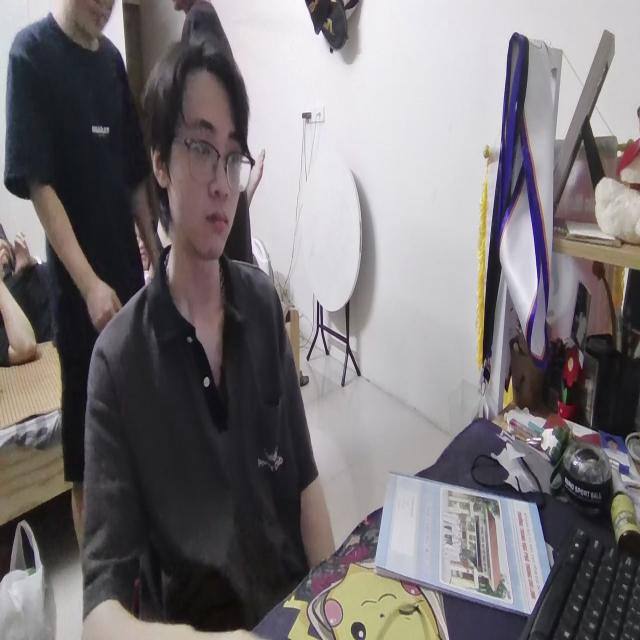book: (372, 462, 545, 620)
extra_person: (7, 0, 155, 483)
student: (76, 39, 331, 640)
